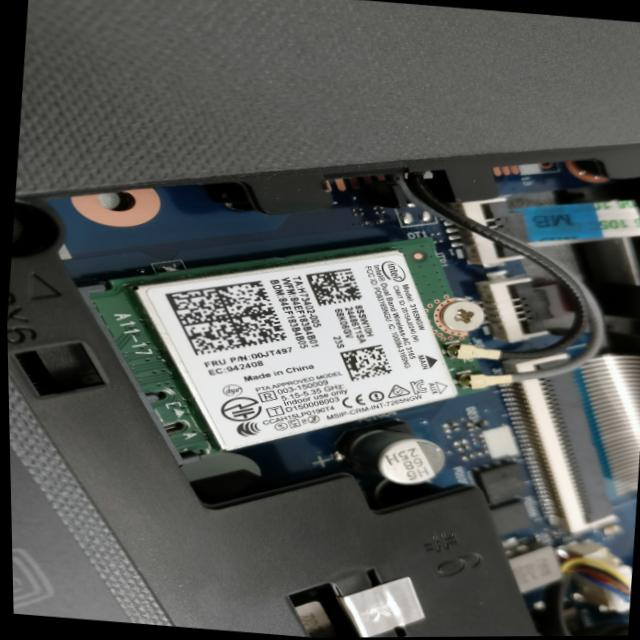datamatrix: (158, 273, 290, 364), (302, 265, 362, 311), (335, 342, 393, 386)
